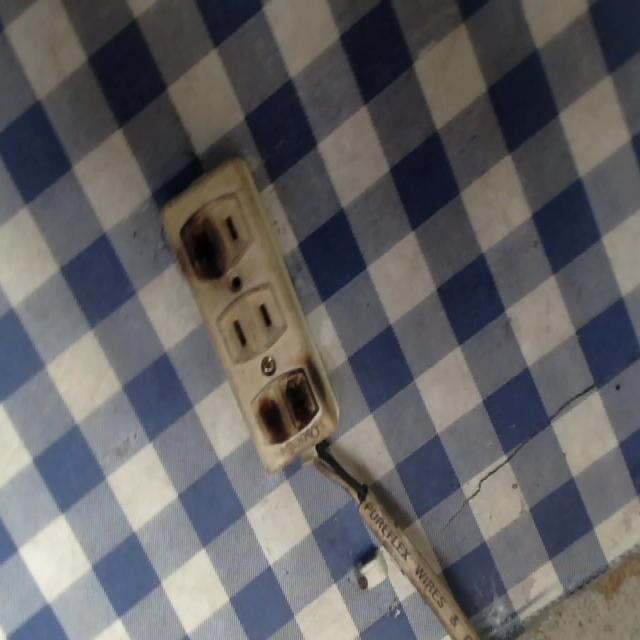-: (255, 357, 329, 452), (180, 207, 231, 284)
